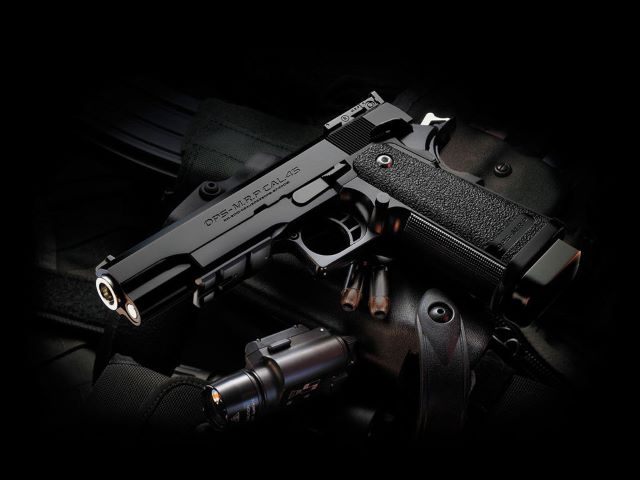pistol: (93, 91, 578, 355)
